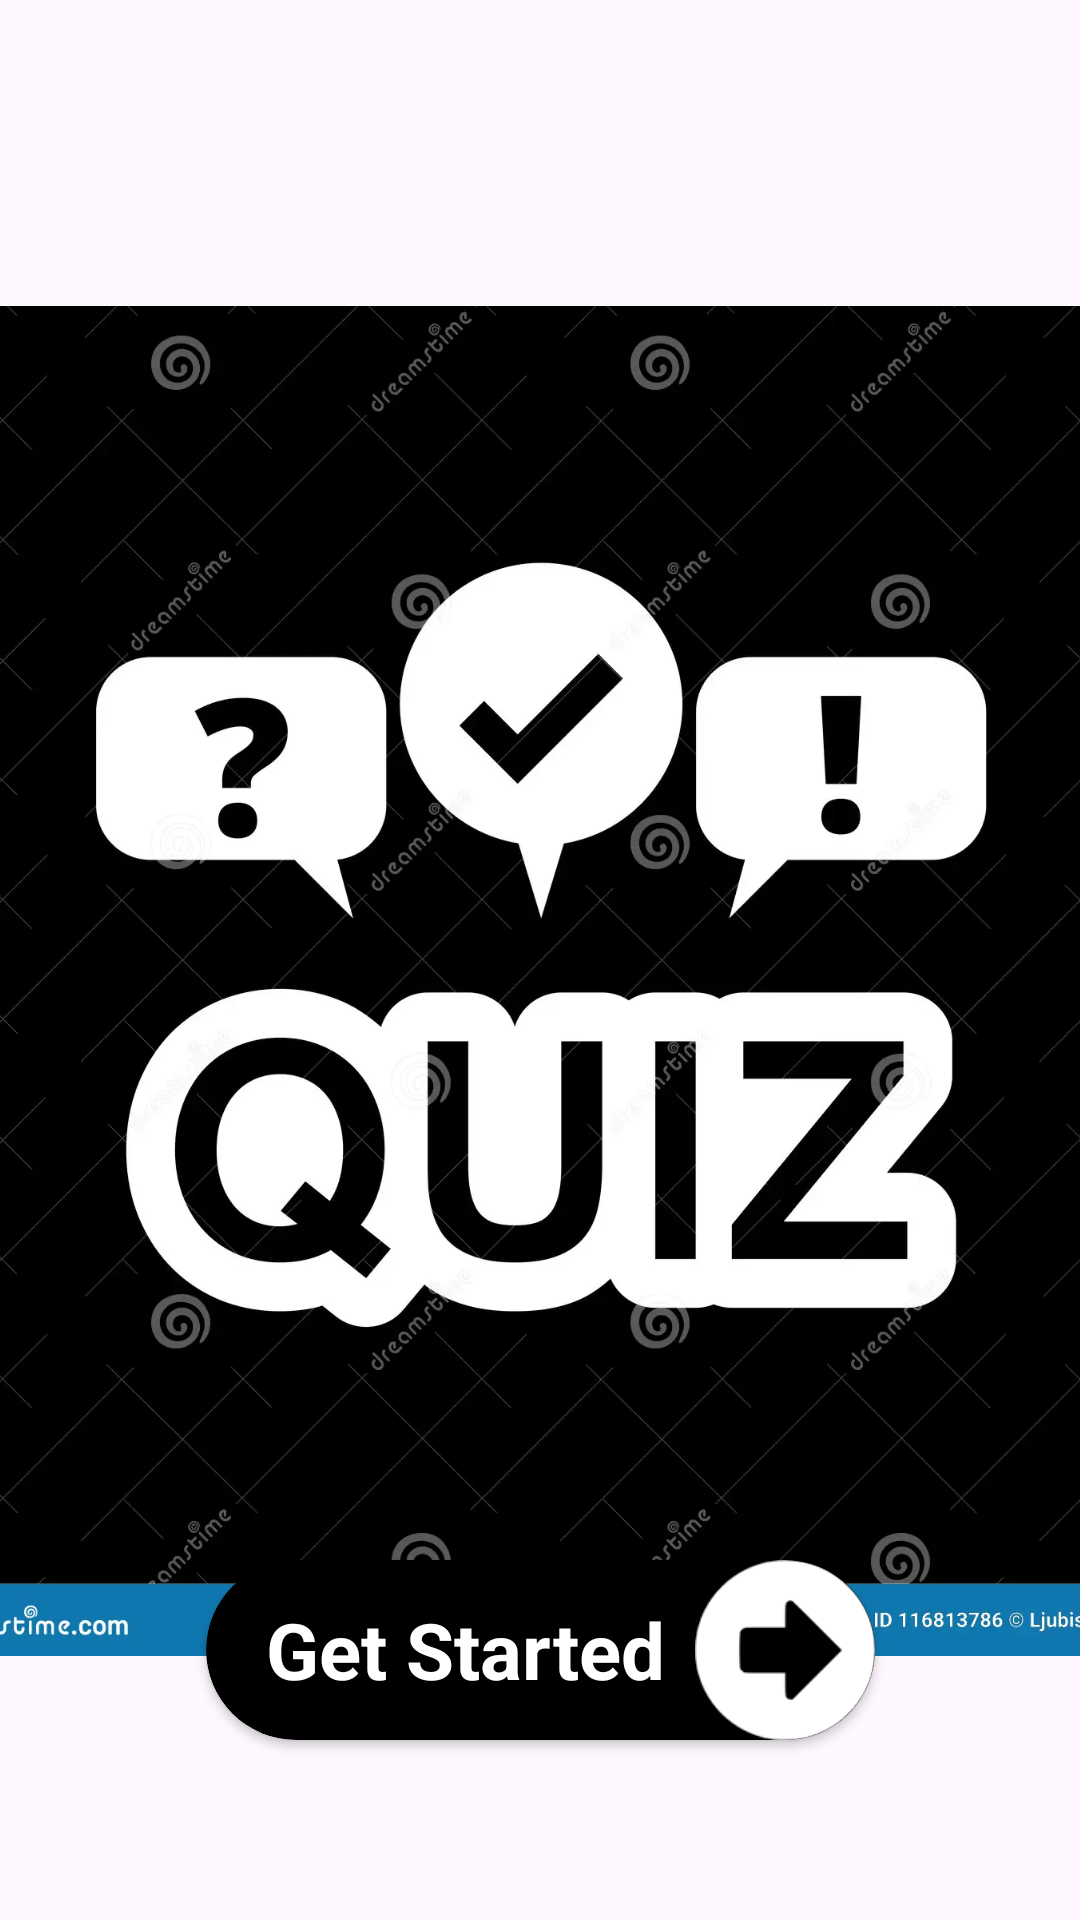

Icons on this 1080*1920 Android screen, each with the point to tap as (x=x, y=y):
arrow right: (x=785, y=1650)
